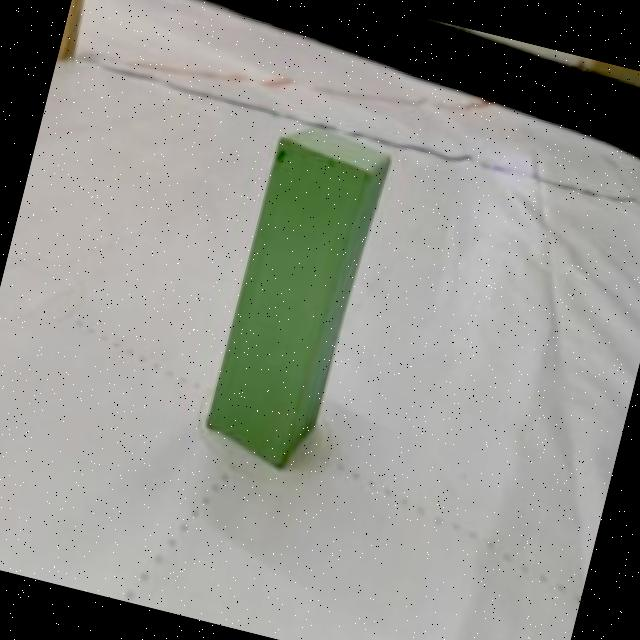greenbox: (196, 110, 402, 480)
